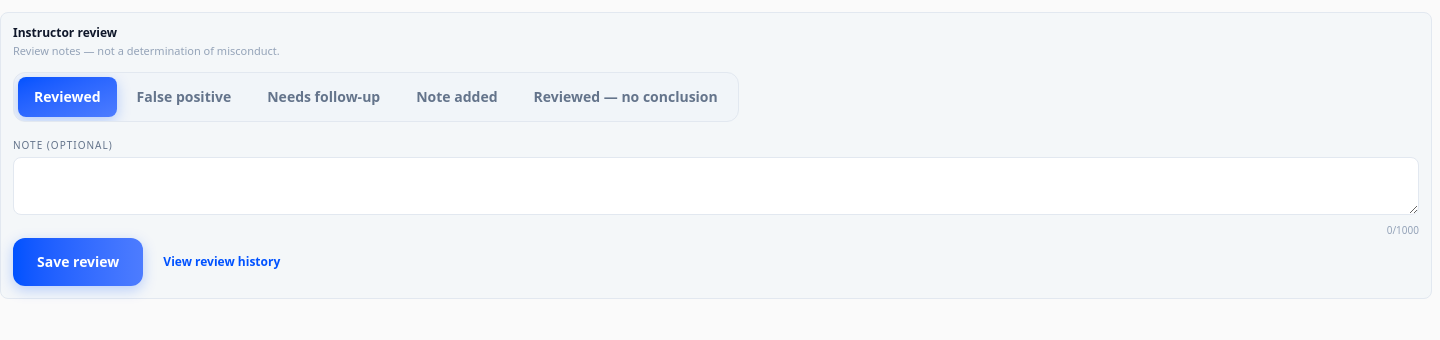
Test case: AlertReviewForm conflict (409) and failure states › falls back to a generic error for non-409 failures
Click the button "Save review" at (78, 262), box x1=13 y1=238 x2=143 y2=286
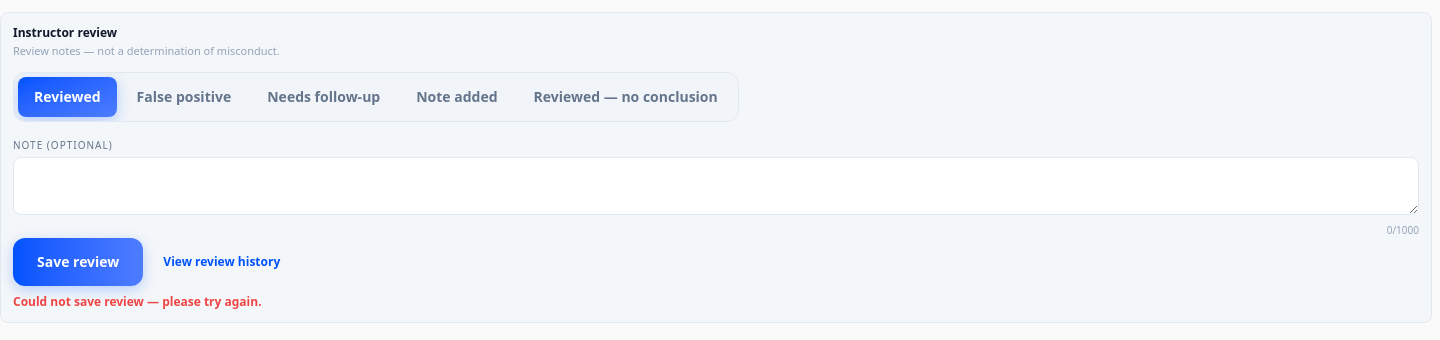
Result: the text "Could not save review — please try again." is shown at x1=13 y1=292 x2=262 y2=310
